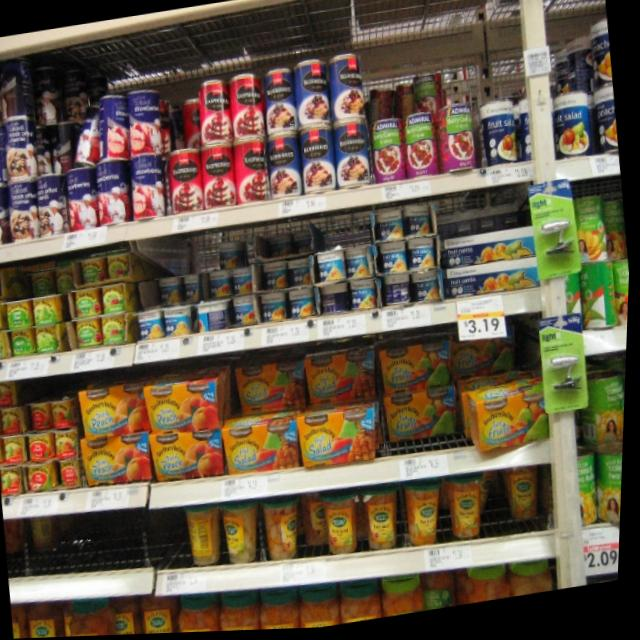q91: (584, 369, 629, 458), (577, 193, 617, 277), (601, 460, 626, 541)
